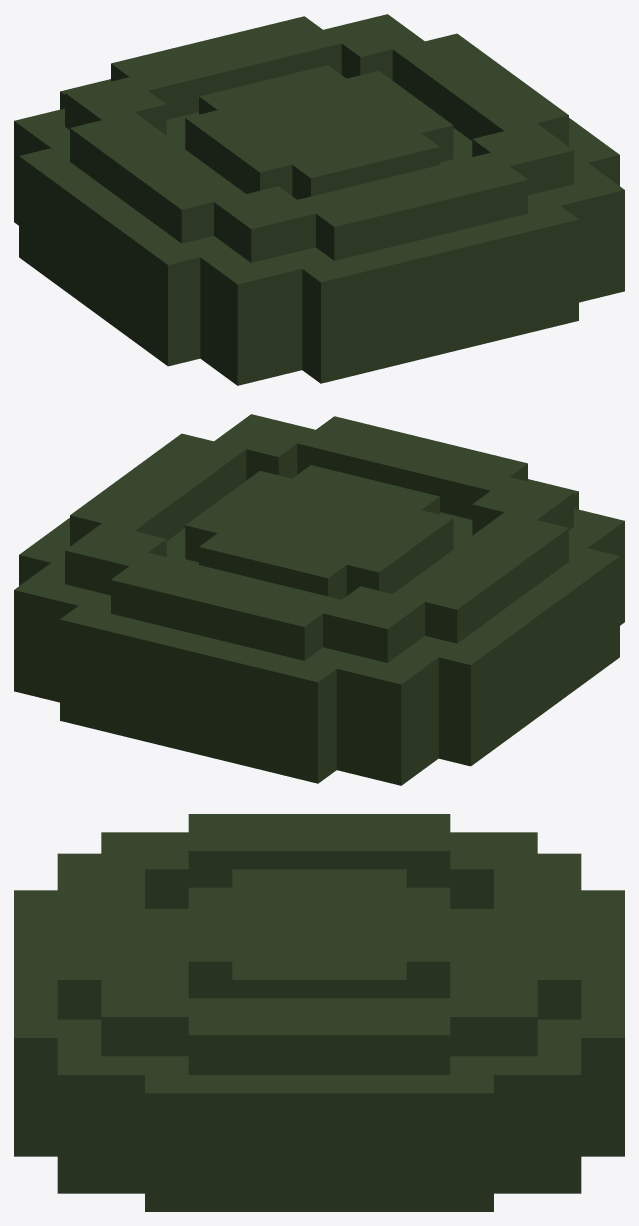
The model's file is man-v4-green.gltf.
The picture shows the model from 3 angles, top to bottom: view 1: azimuth 30°, elevation 25°; view 2: azimuth 150°, elevation 25°; view 3: azimuth 270°, elevation 25°; orthographic projection. The views are drawn at different scales.
Parts seen in each view (by area): view 1: Untitled; view 2: Untitled; view 3: Untitled.
Part boxes in pixels (box(x1,y1,x2,y2)): Untitled: box(14, 14, 624, 385); Untitled: box(14, 414, 624, 785); Untitled: box(14, 814, 624, 1211).
Size of the model in its own units: 1.4 by 0.4 by 1.4.
1 material, 1 textured.
